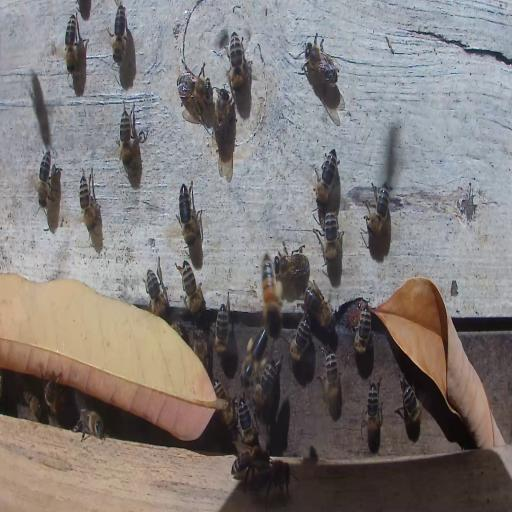bee: (259, 250, 285, 340), (300, 40, 340, 88), (176, 178, 203, 246), (314, 208, 343, 270), (254, 457, 292, 504), (312, 147, 340, 206), (210, 374, 237, 433), (78, 169, 102, 234), (304, 278, 334, 327), (177, 259, 203, 315), (397, 376, 423, 432), (322, 349, 345, 411), (214, 88, 235, 154), (145, 258, 168, 315), (242, 329, 268, 379), (366, 183, 390, 235), (272, 245, 308, 279), (228, 33, 247, 96), (364, 377, 382, 443), (111, 3, 130, 65), (178, 73, 213, 106), (62, 12, 80, 76), (118, 106, 137, 165), (72, 408, 104, 441), (236, 398, 258, 446), (353, 302, 373, 354), (255, 364, 277, 408), (289, 316, 310, 362), (37, 151, 53, 210), (232, 449, 266, 476), (214, 301, 230, 356), (21, 391, 43, 420), (194, 327, 208, 367), (45, 378, 58, 420)
